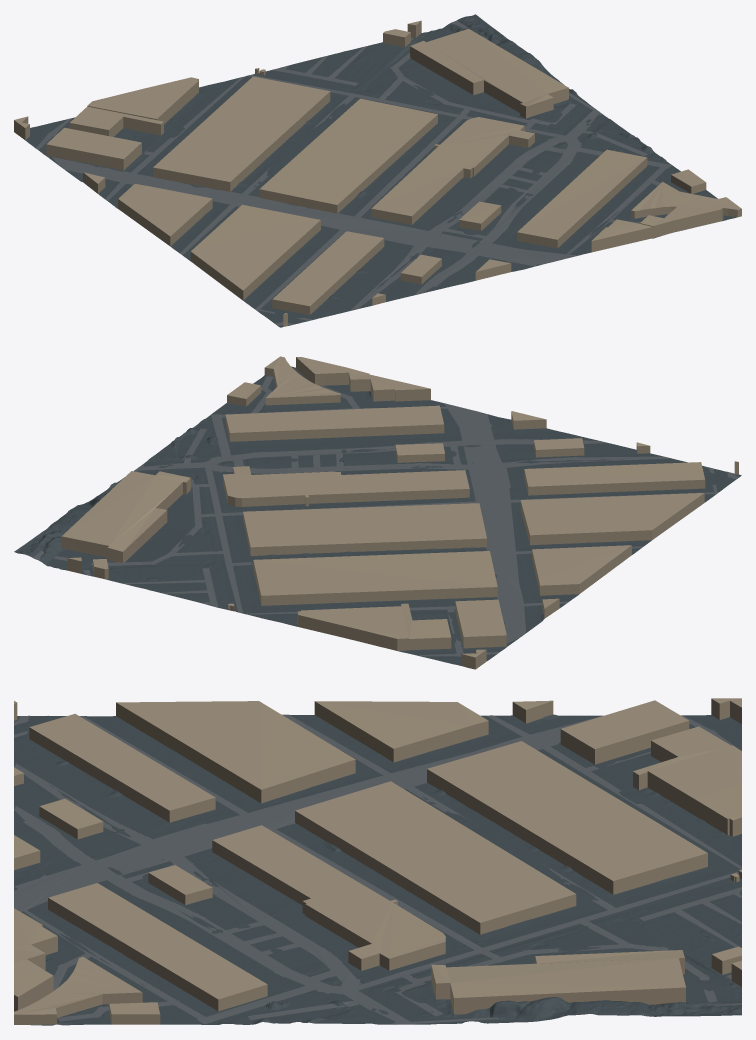
The model's file is epsg26910-1440-10878.lod0.glb.
3 renders of one model, top to bottom at view 1: azimuth 30°, elevation 25°; view 2: azimuth 150°, elevation 25°; view 3: azimuth 270°, elevation 25°, orthographic. The views are drawn at different scales.
Parts seen in each view (by area): view 1: epsg26910-1440-10878-lod0; view 2: epsg26910-1440-10878-lod0; view 3: epsg26910-1440-10878-lod0.
Part boxes in pixels (x1,y1,x2,y2): epsg26910-1440-10878-lod0: [14, 14, 741, 327]; epsg26910-1440-10878-lod0: [14, 356, 741, 669]; epsg26910-1440-10878-lod0: [14, 698, 741, 1025].
Size of the model in its own units: 384 by 12.1 by 384.
